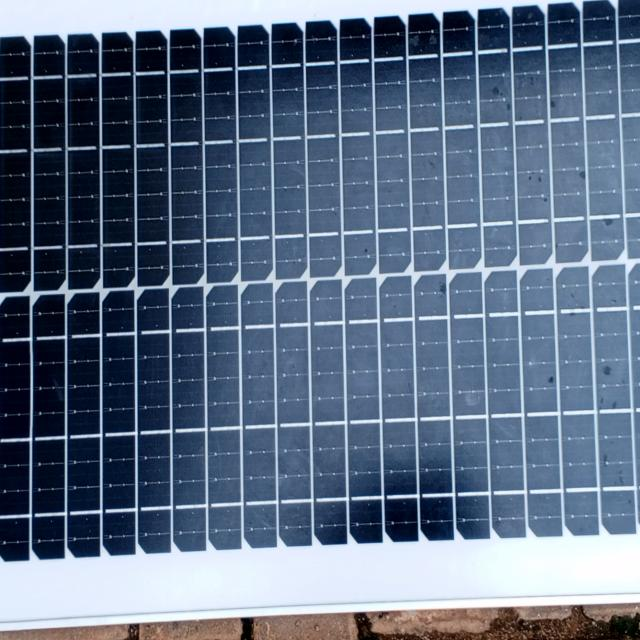Clean: (1, 5, 640, 558)
